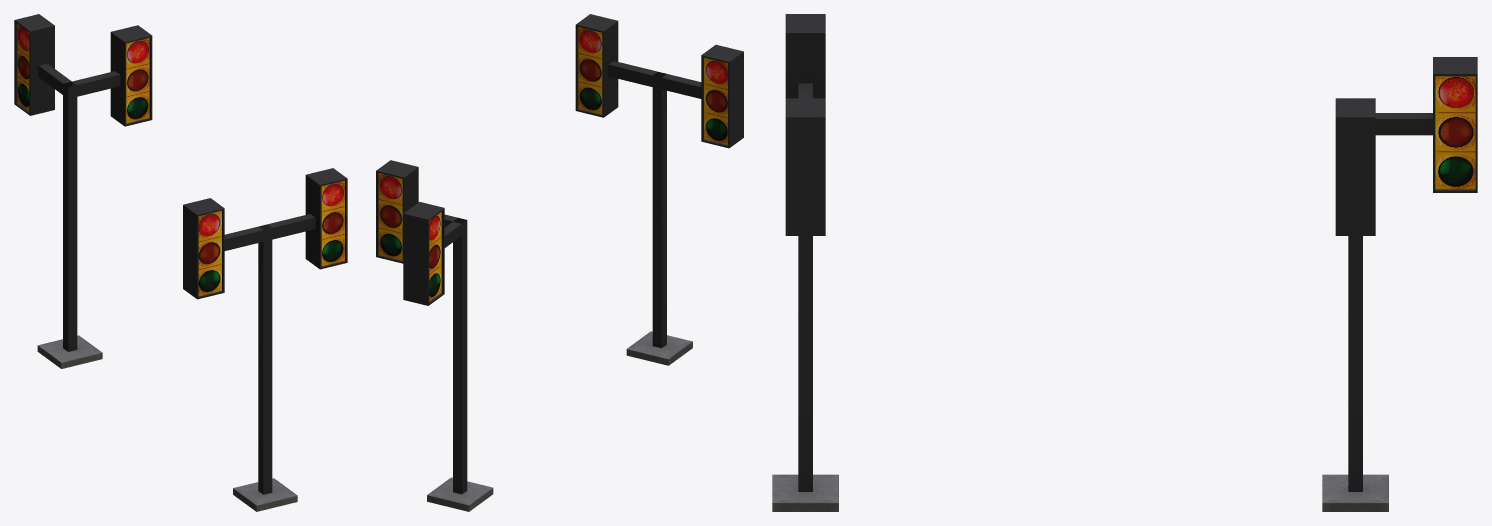
File: signal.fbx
3 views of the same model, side by side, from view 1: azimuth 30°, elevation 25°; view 2: azimuth 150°, elevation 25°; view 3: azimuth 270°, elevation 25° (orthographic). The views are drawn at different scales.
Parts seen in each view (by area): view 1: signal (×2); view 2: signal (×2); view 3: signal (×2).
Boxes of the visible parts, x1,y1,x2,y2 form: signal (×2): [14, 14, 347, 511]; signal (×2): [376, 14, 743, 511]; signal (×2): [772, 14, 1477, 511].
Bounding box in the file's own units: 1050 × 2050 × 3033.
